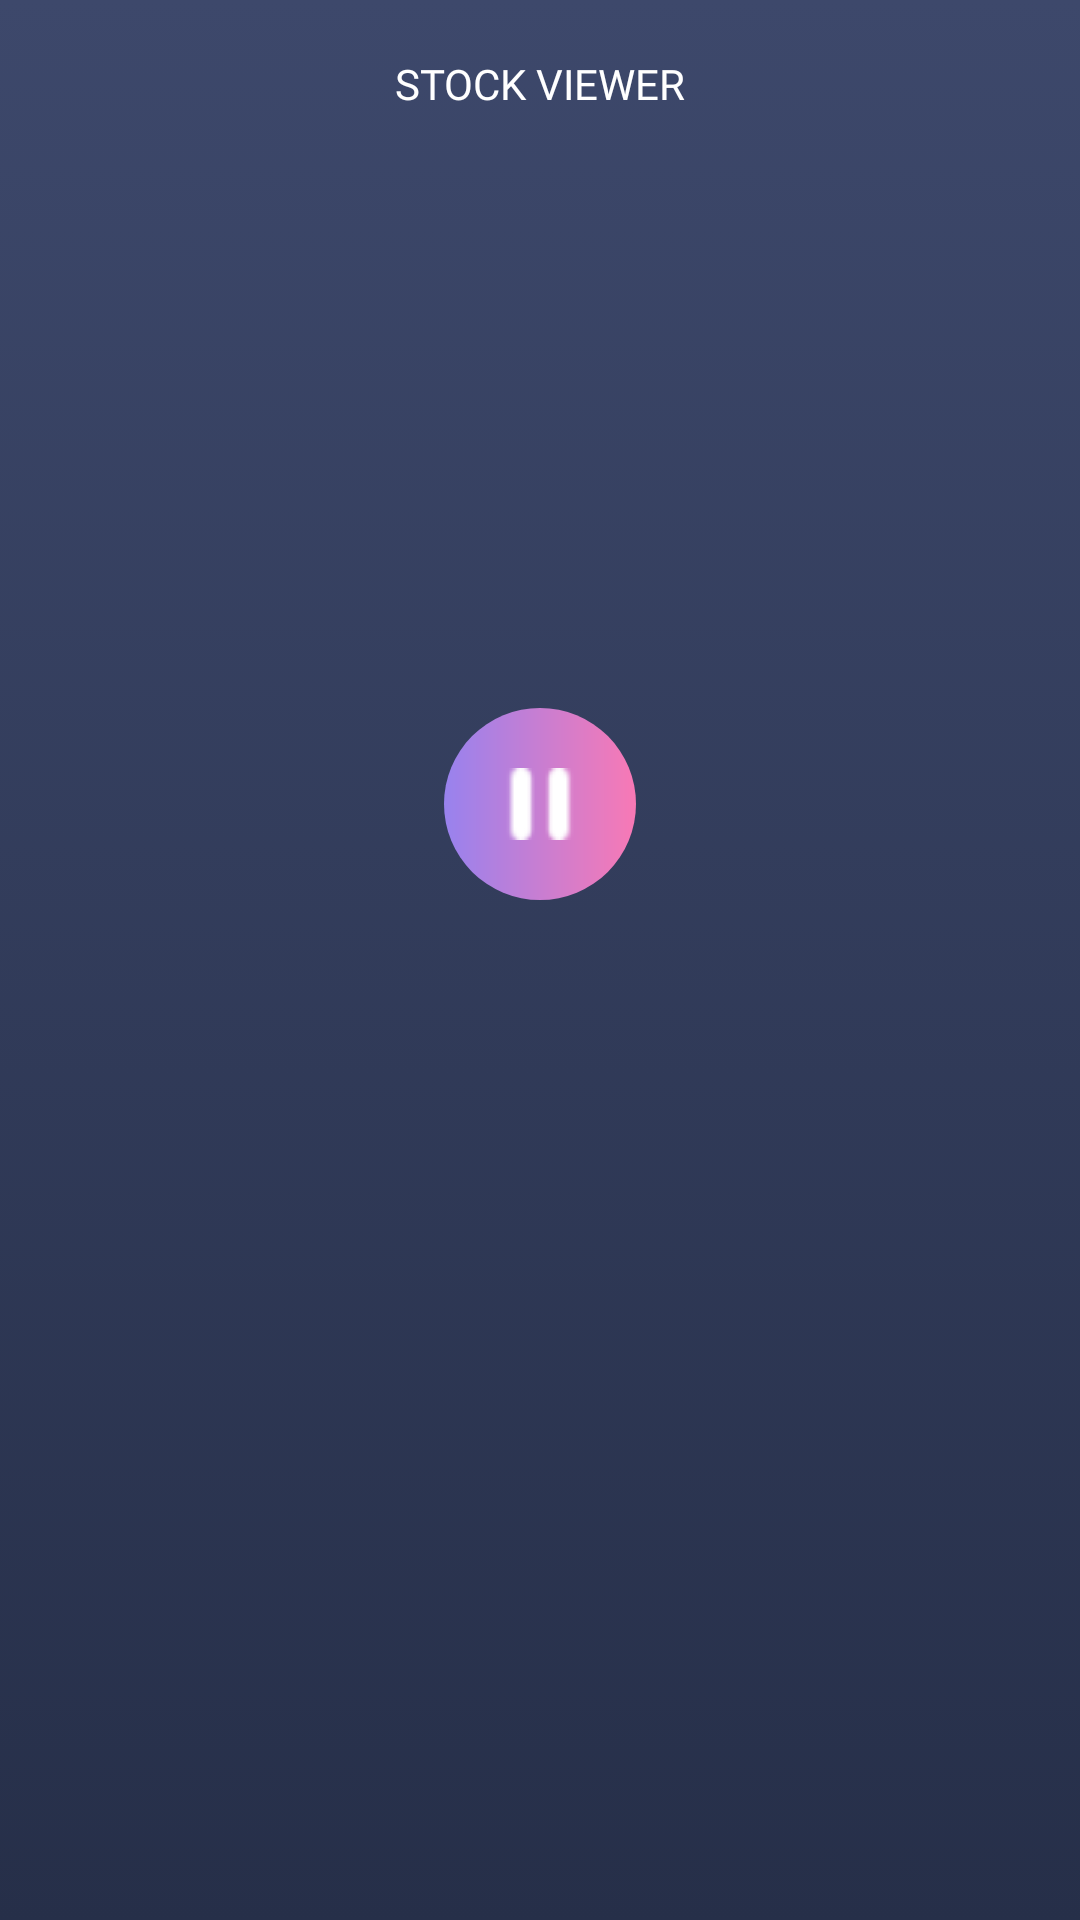

Icons on this 1080w x 1920h Android screen, each with its box as [x1, y1, x2, y2]:
pause: [444, 708, 636, 900]
